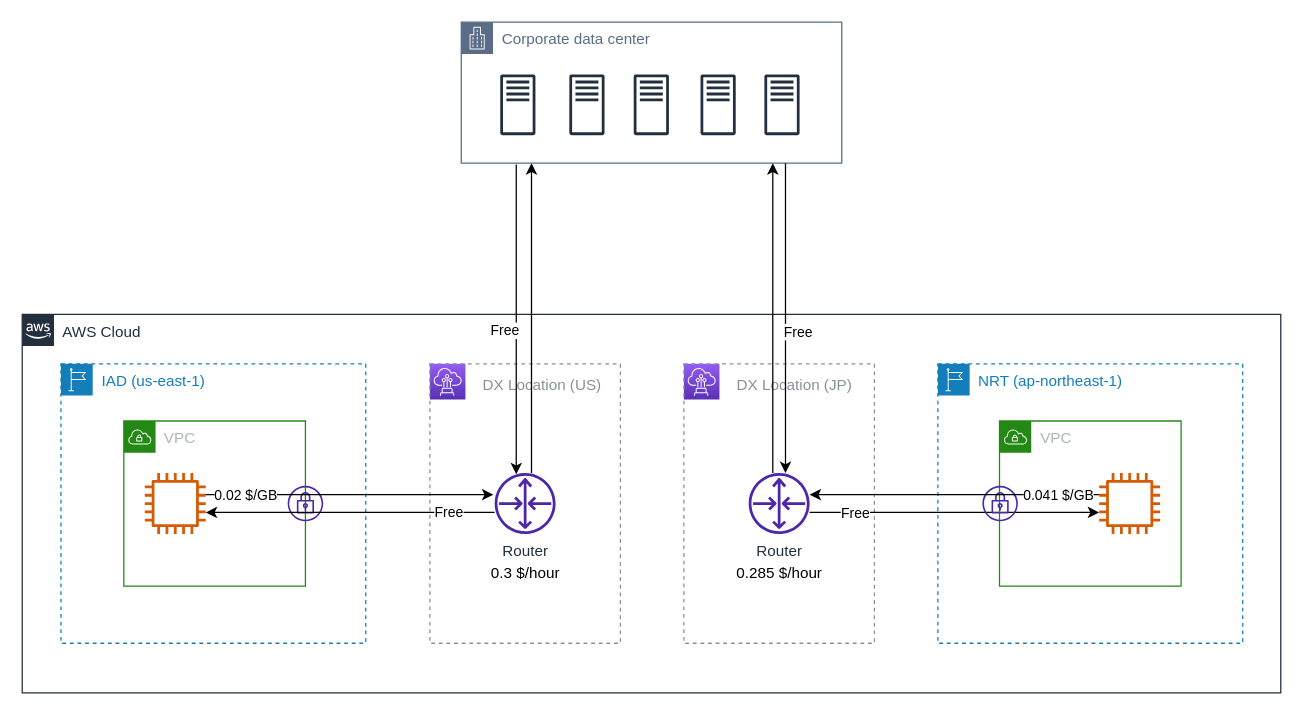
The diagram is 1303 pixels wide and 715 high, and some of its shapes have lost their labels. The shapes that lost their labels are listed below. From the top down, each one's centre as x and y in pixels, then its label:
the point at 174,502: Instance-1
the point at 1129,502: Instance-2
